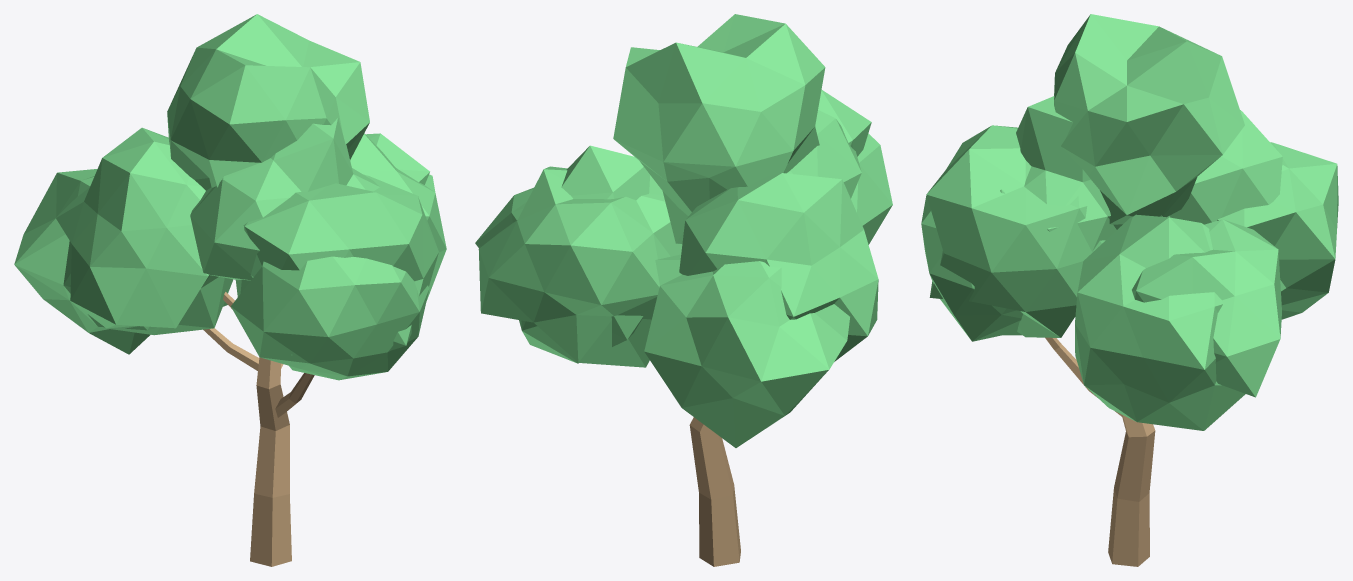
File: Simple_008.fbx
The picture shows the model from 3 angles, left to right: view 1: azimuth 30°, elevation 25°; view 2: azimuth 150°, elevation 25°; view 3: azimuth 270°, elevation 25°; orthographic projection. The views are drawn at different scales.
Visible parts, largest first — view 1: Simple.008; view 2: Simple.008; view 3: Simple.008.
Part boxes in pixels (x1,y1,x2,y2): Simple.008: (14,14,446,566); Simple.008: (475,14,892,566); Simple.008: (921,14,1338,566).
Size of the model in its own units: 6.07 by 7.88 by 5.68.
